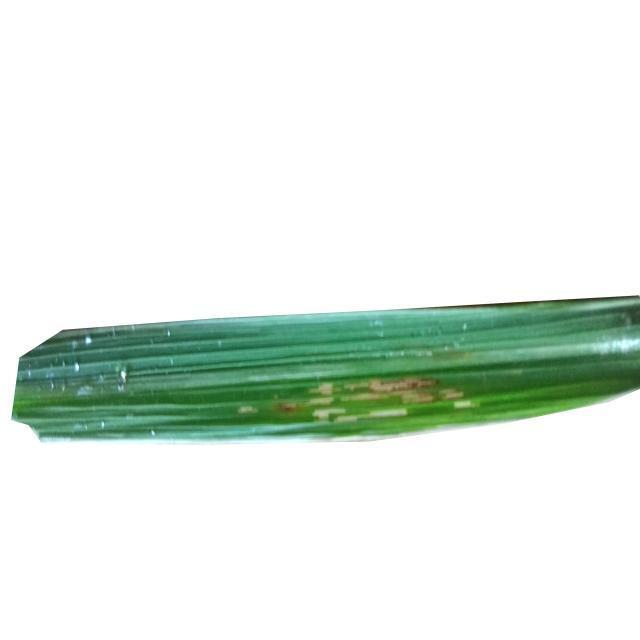Bacterial_Leaf_Blight: (275, 365, 469, 420)
